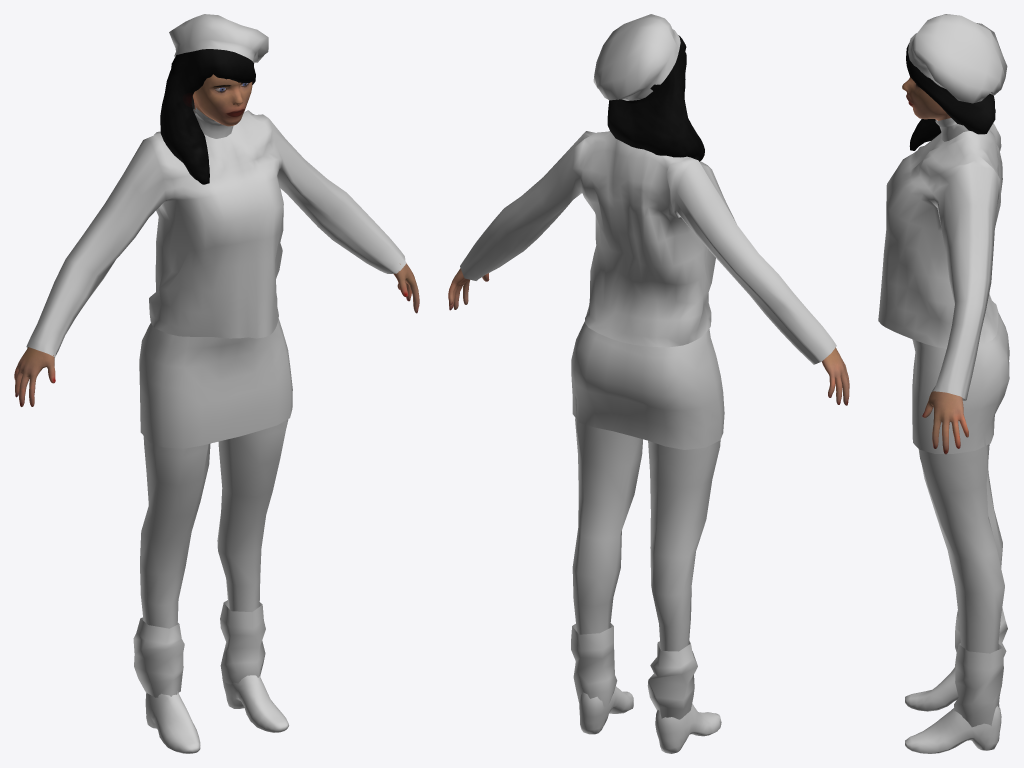
File: Monica.fbx
The picture shows the model from 3 angles, left to right: view 1: azimuth 30°, elevation 25°; view 2: azimuth 150°, elevation 25°; view 3: azimuth 270°, elevation 25°; orthographic projection.
Parts seen in each view (by area): view 1: Monica; view 2: Monica; view 3: Monica.
Part boxes in pixels (<box>): Monica: <box>14,14,419,753</box>; Monica: <box>448,14,849,753</box>; Monica: <box>878,14,1009,753</box>.
Size of the model in its own units: 105 by 180 by 30.19.
